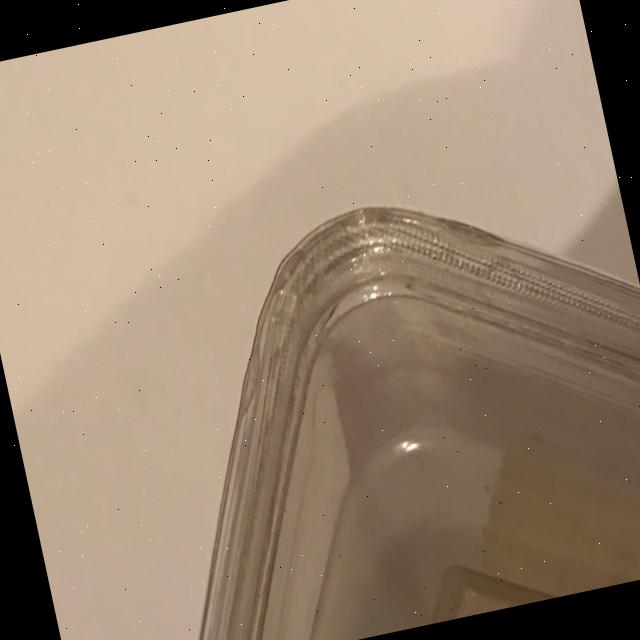plastic: (103, 151, 640, 640)
